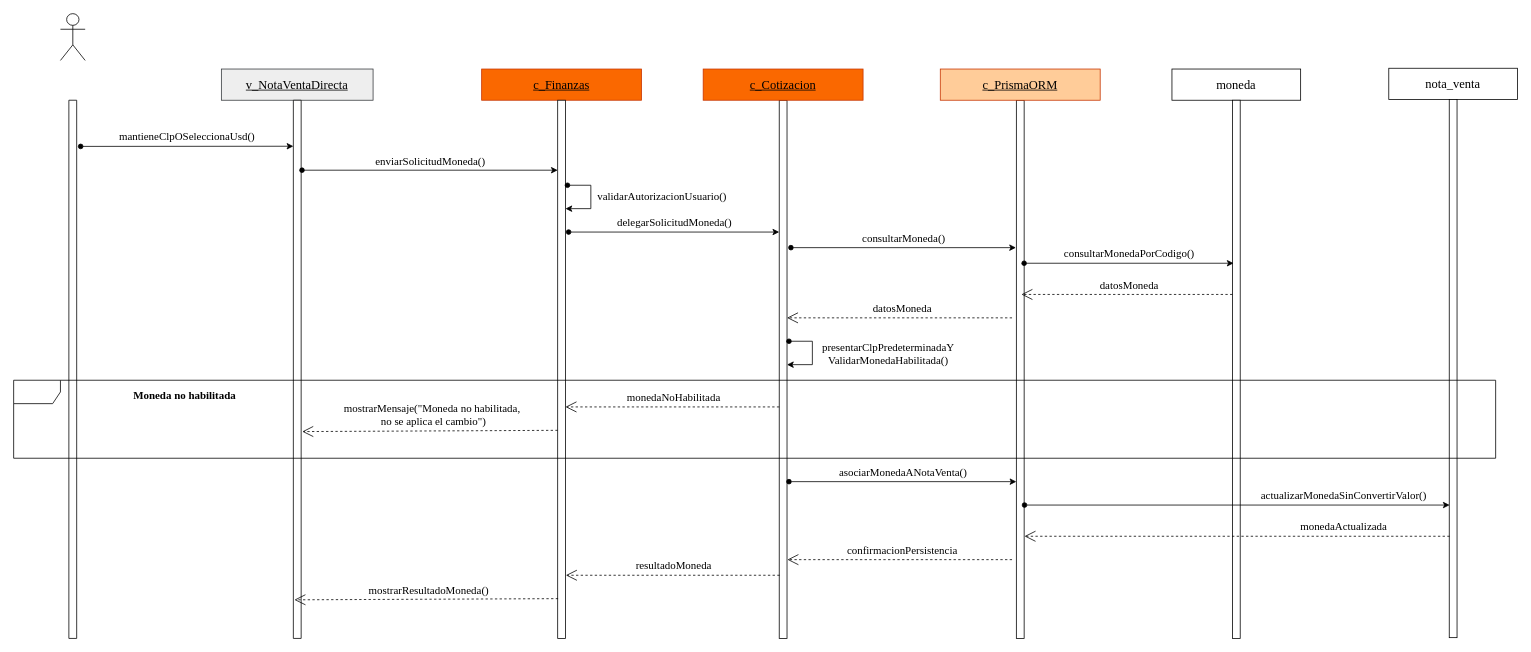
Image size: 1531x652. Some labels were removed from this diagram. The shapes that lost their labels are listed below. From the top down, each one's centre as x and y in pixels, then its label:
At pixel 72 36: "Usuario Autorizado Gerencia o Secretaria".
At pixel 754 418: "Exc1".
